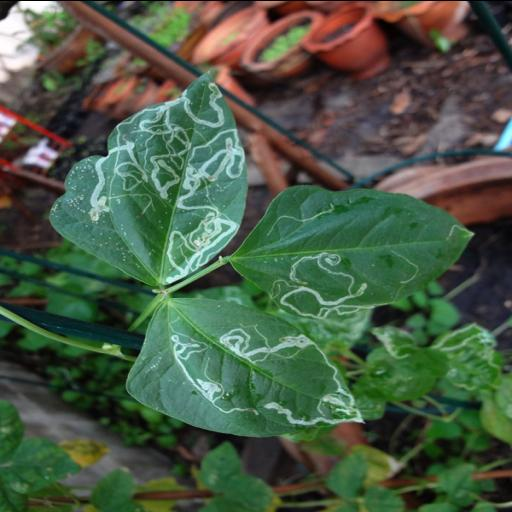Leaf Miner: (47, 76, 248, 286), (126, 295, 370, 437), (234, 184, 474, 318)
